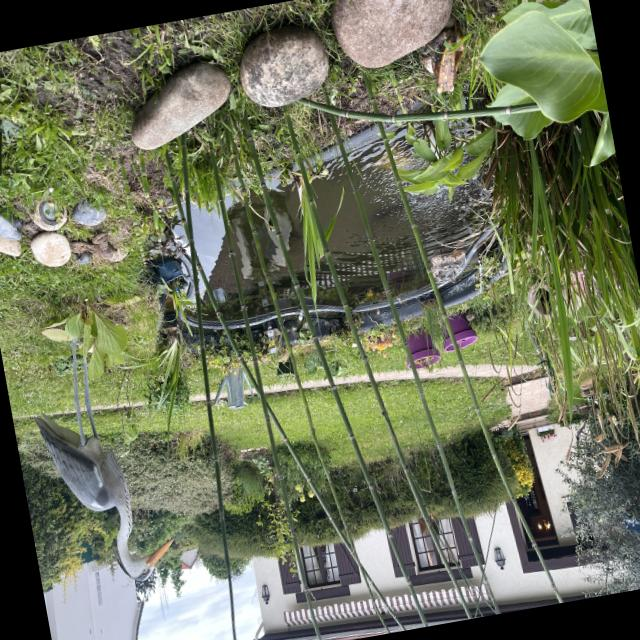Heron: (6, 290, 186, 609)
